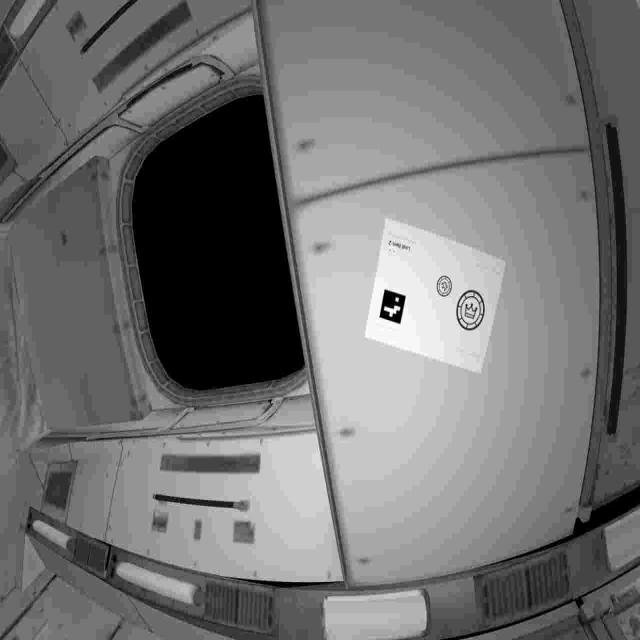coin: (456, 288, 487, 336), (435, 275, 455, 301)
